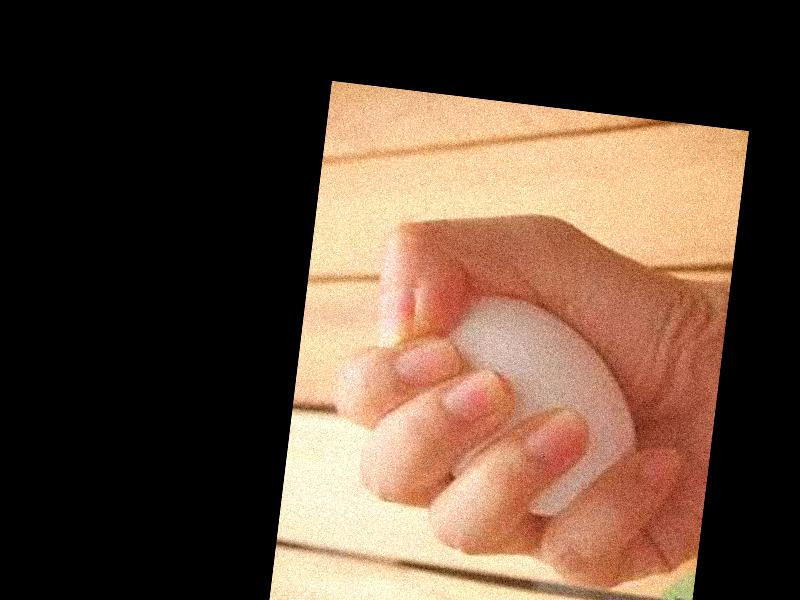Eggs: (406, 288, 650, 528)
